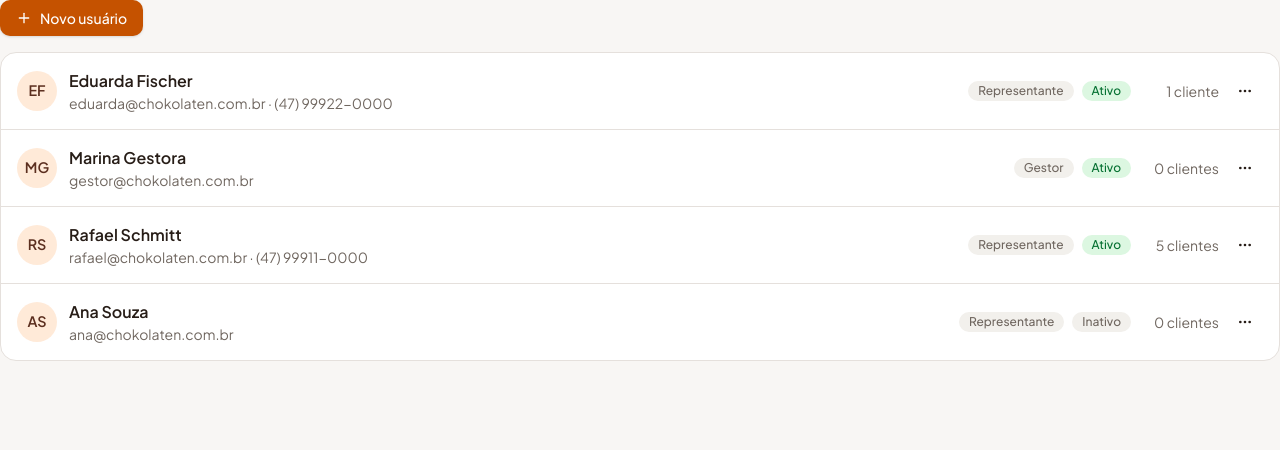
Test: UsuariosPage › inativar pede confirmação com a frase da carteira e pode transferir antes
Click the button named "Ações de Rafael Schmitt" at (1245, 245), box 1227,227 -> 1263,263
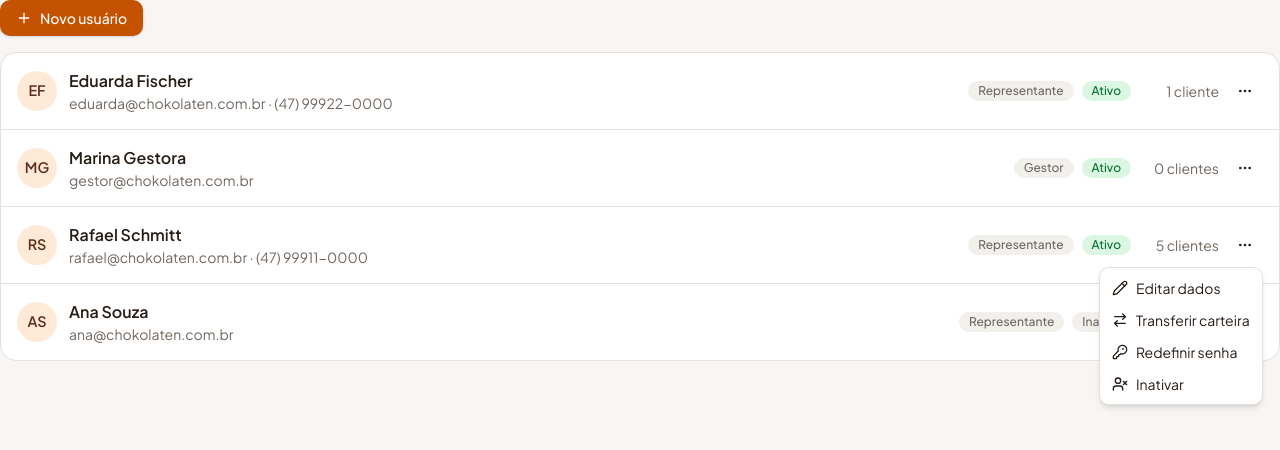
Click the menu item "Inativar" at (1148, 384), box 1112,375 -> 1184,393
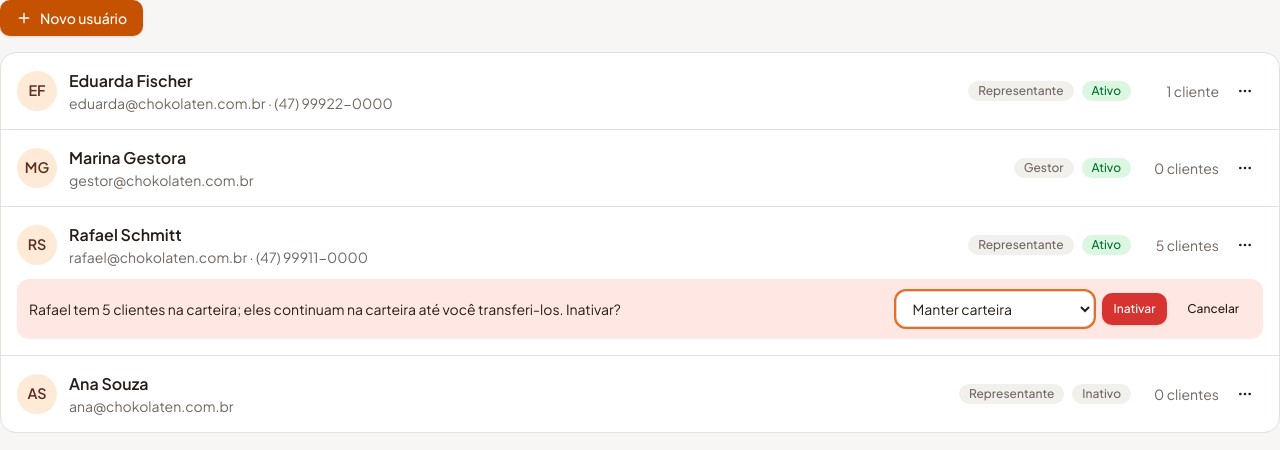
expect the text "Rafael tem 5 clientes na carteira; eles continuam na carteira até você transferi-los. Inativar?" is shown: met, box 29,300 -> 621,318
Select "Transferir para Eduarda" in the dropdown named "Transferir carteira para" at (995, 309), box 896,291 -> 1094,327
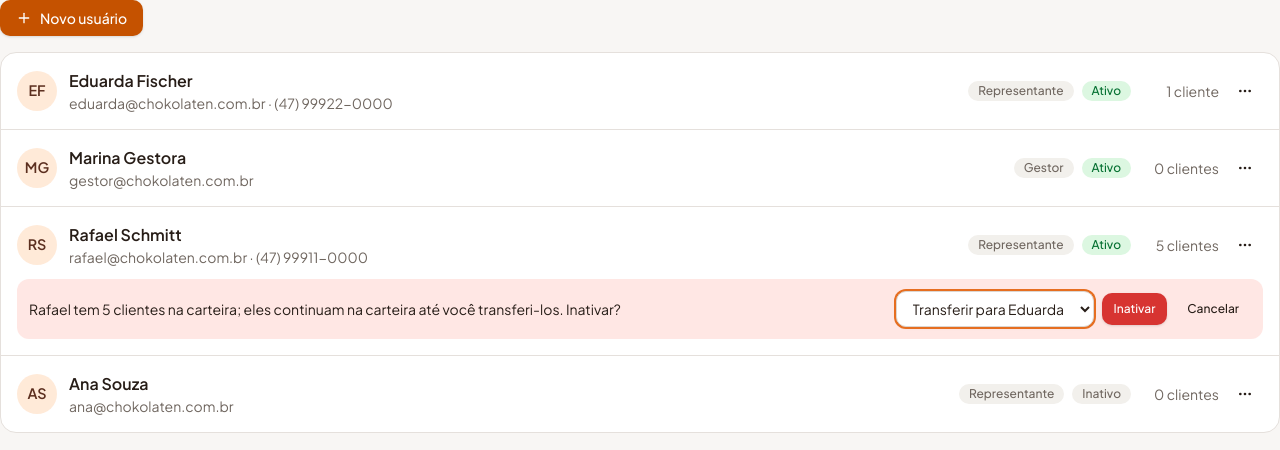
Click the button "Inativar" at (1134, 309), box 1102,293 -> 1167,325
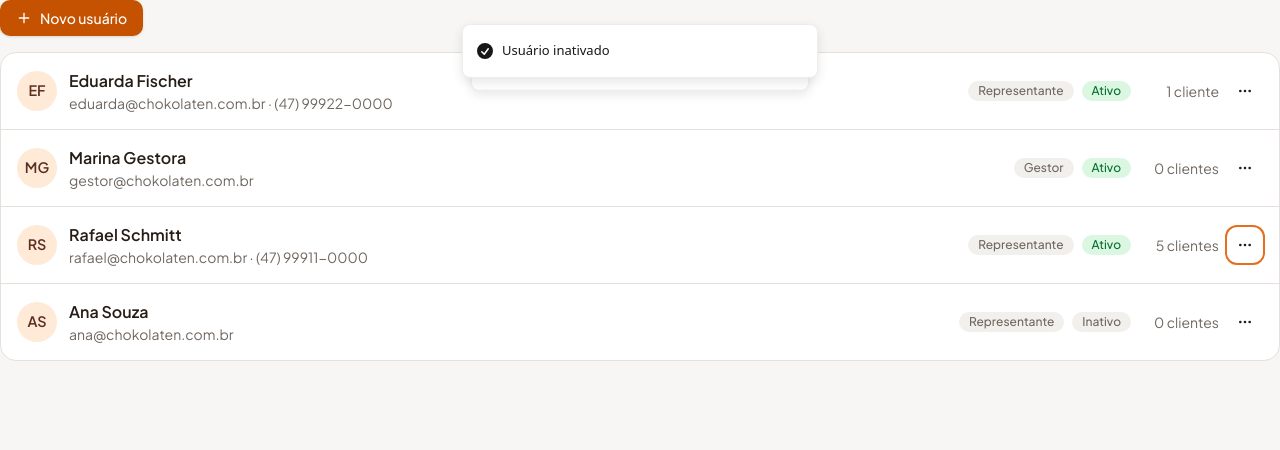
expect the text "Usuário inativado" is shown: met, box 502,41 -> 610,60
